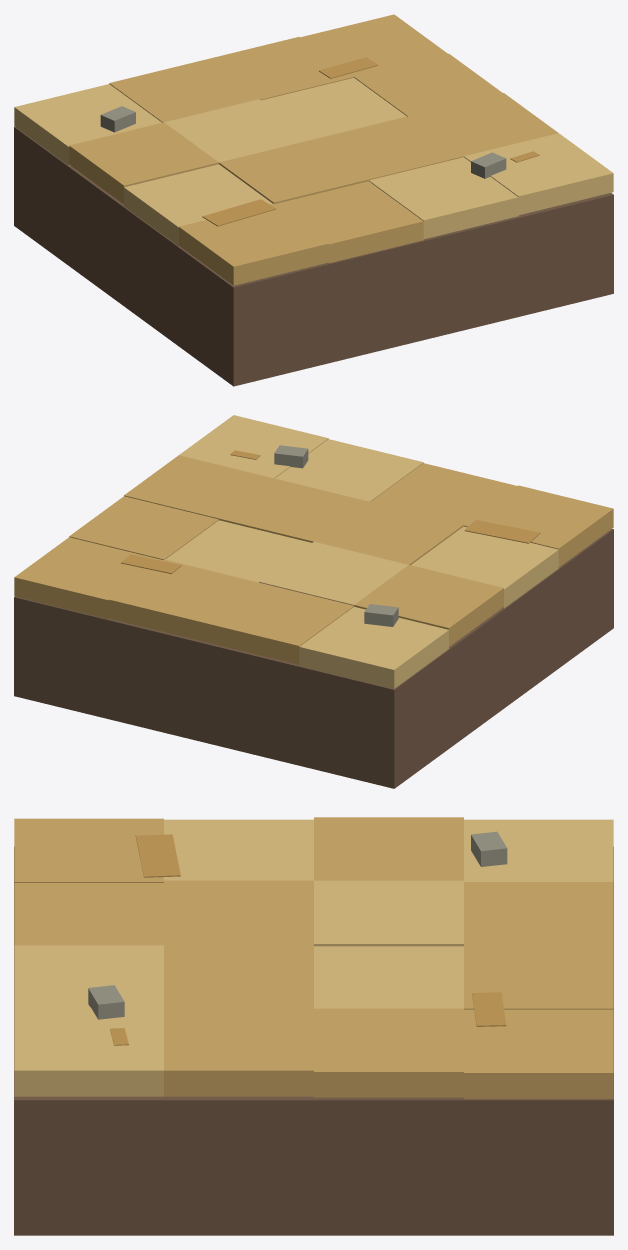
File: sample_ground_0.glb
The picture shows the model from 3 angles, top to bottom: view 1: azimuth 30°, elevation 25°; view 2: azimuth 150°, elevation 25°; view 3: azimuth 270°, elevation 25°; orthographic projection. The views are drawn at different scales.
Visible parts, largest first — view 1: earth_bank, packed_earth.012, packed_earth.013, packed_earth.014, packed_earth.015, packed_earth.004, packed_earth.008, packed_earth, packed_earth.009, packed_earth.010, packed_earth.005, packed_earth.011 (+9 smaller); view 2: earth_bank, packed_earth, packed_earth.001, packed_earth.002, packed_earth.003, packed_earth.004, packed_earth.008, packed_earth.012, packed_earth.010, packed_earth.007, packed_earth.009, packed_earth.005 (+9 smaller); view 3: earth_bank, packed_earth.007, packed_earth.011, packed_earth.003, packed_earth.015, packed_earth.005, packed_earth.001, packed_earth.004, packed_earth.009, packed_earth.010, packed_earth.006, packed_earth.013 (+9 smaller).
Boxes of the visible parts, x1,y1,x2,y2 form: earth_bank: (14,126,613,386); packed_earth.012: (179,203,328,285); packed_earth.013: (275,181,423,263); packed_earth.014: (369,157,518,239); packed_earth.015: (464,133,613,215); packed_earth.004: (69,122,218,204); packed_earth.008: (124,164,272,246); packed_earth: (14,84,161,165); packed_earth.009: (219,139,368,203); packed_earth.010: (314,116,463,180); packed_earth.005: (164,99,313,162); packed_earth.011: (409,93,558,155); earth_bank: (14,529,613,788); packed_earth: (299,606,448,688); packed_earth.001: (204,582,353,664); packed_earth.002: (109,559,258,641); packed_earth.003: (14,537,162,619); packed_earth.004: (354,565,503,646); packed_earth.008: (411,526,558,608); packed_earth.012: (464,485,613,567); packed_earth.010: (219,478,368,542); packed_earth.007: (69,496,218,559); packed_earth.009: (314,501,463,565); packed_earth.005: (259,541,408,605); earth_bank: (14,847,613,1235); packed_earth.007: (314,1008,463,1097); packed_earth.011: (164,1007,313,1096); packed_earth.003: (464,1009,613,1098); packed_earth.015: (14,1007,163,1096); packed_earth.005: (314,880,463,946); packed_earth.001: (464,882,613,945); packed_earth.004: (314,817,463,880); packed_earth.009: (164,880,313,943); packed_earth.010: (164,944,313,1007); packed_earth.006: (314,946,463,1008); packed_earth.013: (14,883,163,945).
Bounding box in the file's own units: 0.925 × 0.3055 × 0.925.
